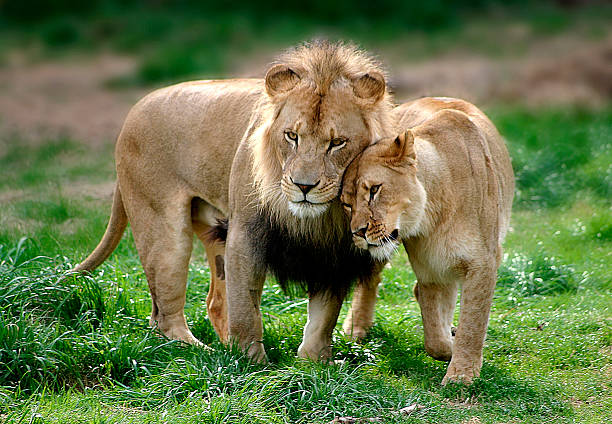lion: (264, 55, 399, 217), (337, 135, 444, 264)
